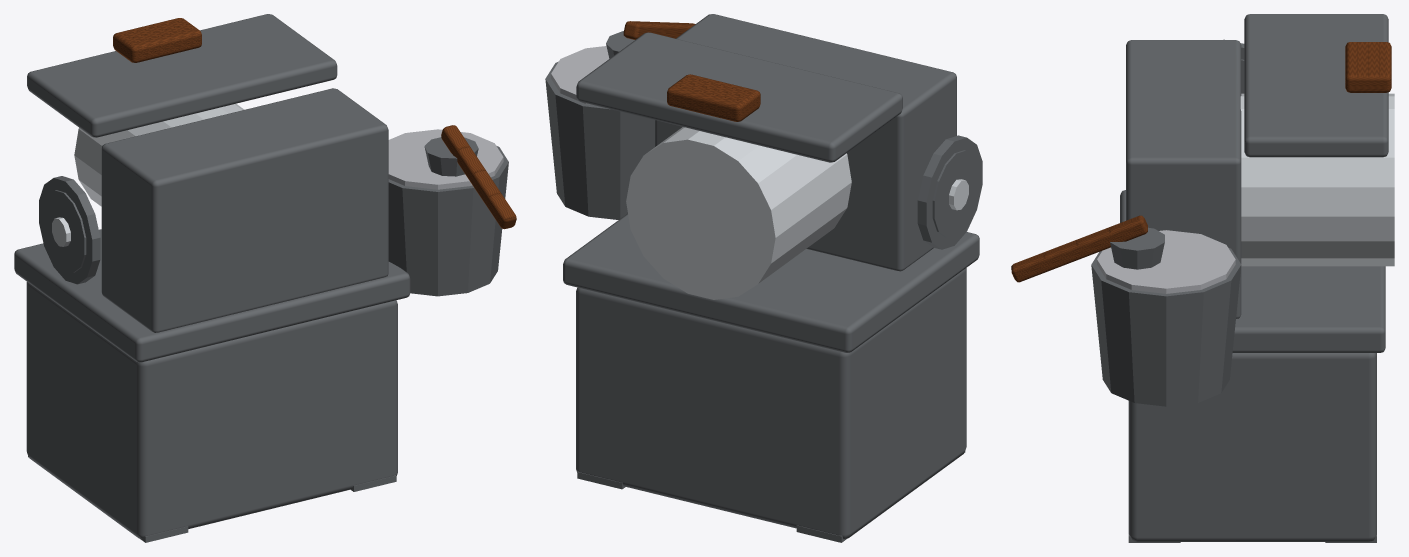
File: printing-press-and-newspaper-office-plate-casting-box-5943fd47__37731.glb
3 views of the same model, side by side, from view 1: azimuth 30°, elevation 25°; view 2: azimuth 150°, elevation 25°; view 3: azimuth 270°, elevation 25° (orthographic). The views are drawn at different scales.
Visible parts, largest first — view 1: plate-casting-box, lid/iron, lid/oak; view 2: plate-casting-box, lid/iron, lid/oak; view 3: plate-casting-box, lid/iron, lid/oak.
Part boxes in pixels (bbox=[...]): plate-casting-box: bbox=[14, 88, 516, 542]; lid/iron: bbox=[27, 14, 337, 137]; lid/oak: bbox=[113, 18, 201, 62]; plate-casting-box: bbox=[545, 14, 982, 542]; lid/iron: bbox=[576, 32, 902, 162]; lid/oak: bbox=[667, 74, 760, 121]; plate-casting-box: bbox=[1011, 39, 1394, 542]; lid/iron: bbox=[1244, 14, 1388, 157]; lid/oak: bbox=[1345, 42, 1391, 92].
Bounding box in the file's own units: 1.74 × 1.6 × 1.33.
Materials: 4 (1 with a texture image).
